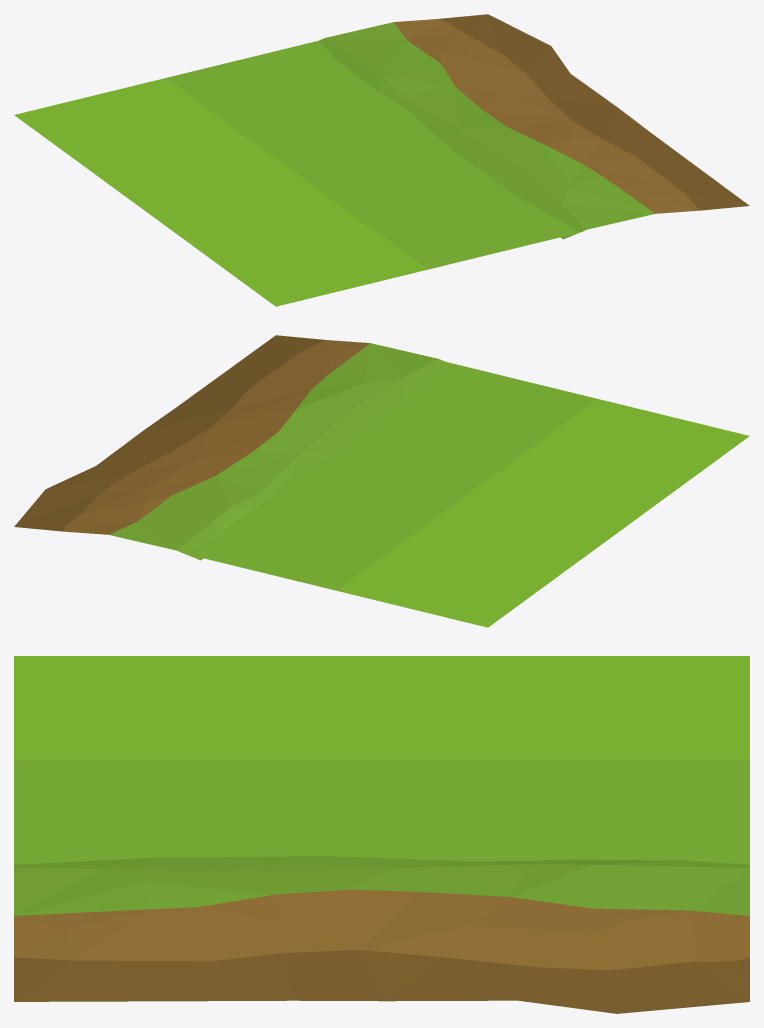
The model's file is sidewalk_ forest_1.fbx.
3 renders of one model, top to bottom at view 1: azimuth 30°, elevation 25°; view 2: azimuth 150°, elevation 25°; view 3: azimuth 270°, elevation 25°, orthographic. The views are drawn at different scales.
Parts seen in each view (by area): view 1: sidewalk_ forest_1; view 2: sidewalk_ forest_1; view 3: sidewalk_ forest_1.
Boxes of the visible parts, <box> form: sidewalk_ forest_1: <box>14,14,749,306</box>; sidewalk_ forest_1: <box>14,335,749,627</box>; sidewalk_ forest_1: <box>14,656,749,1013</box>.
Size of the model in its own units: 1080 by 46.38 by 1000.
